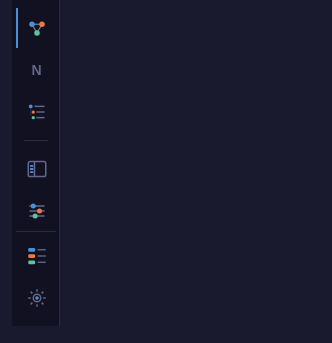
Test: ActivityBar › shows layout section with three presets in Advanced flyout (AC-061C-02)
The width and height of the screenshot is (332, 343).
Click the button titled "Advanced Tools".
click(36, 211)  # box [16, 191, 56, 231]
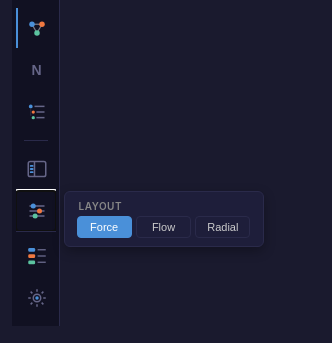
Result: the button "Force" is shown at [76, 216, 132, 238]
Result: the button "Flow" is shown at [136, 216, 191, 238]
Result: the button "Radial" is shown at [195, 216, 250, 238]
